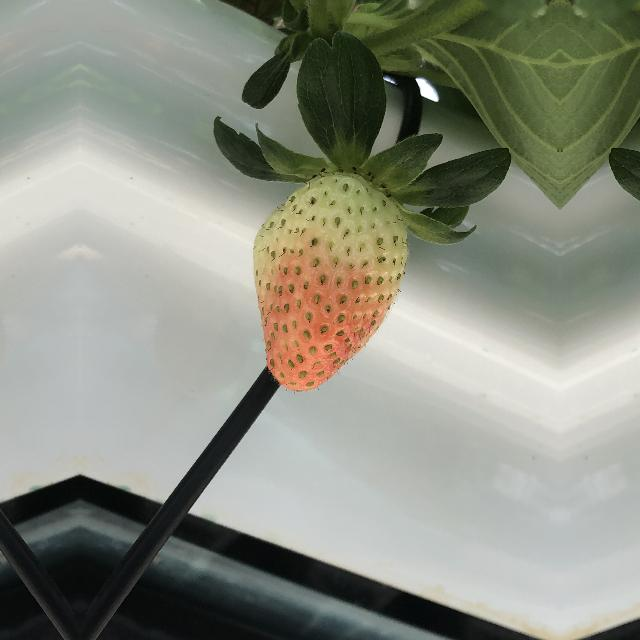Health_75: (242, 160, 418, 396)
